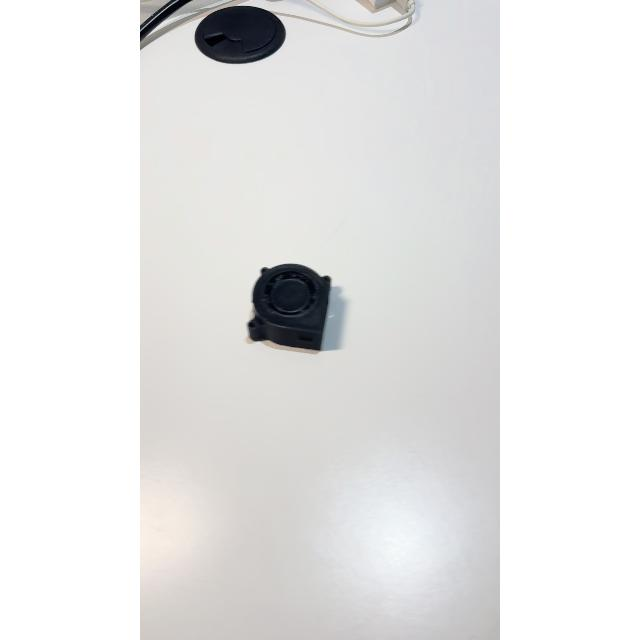Pieza_3: (235, 257, 341, 363)
